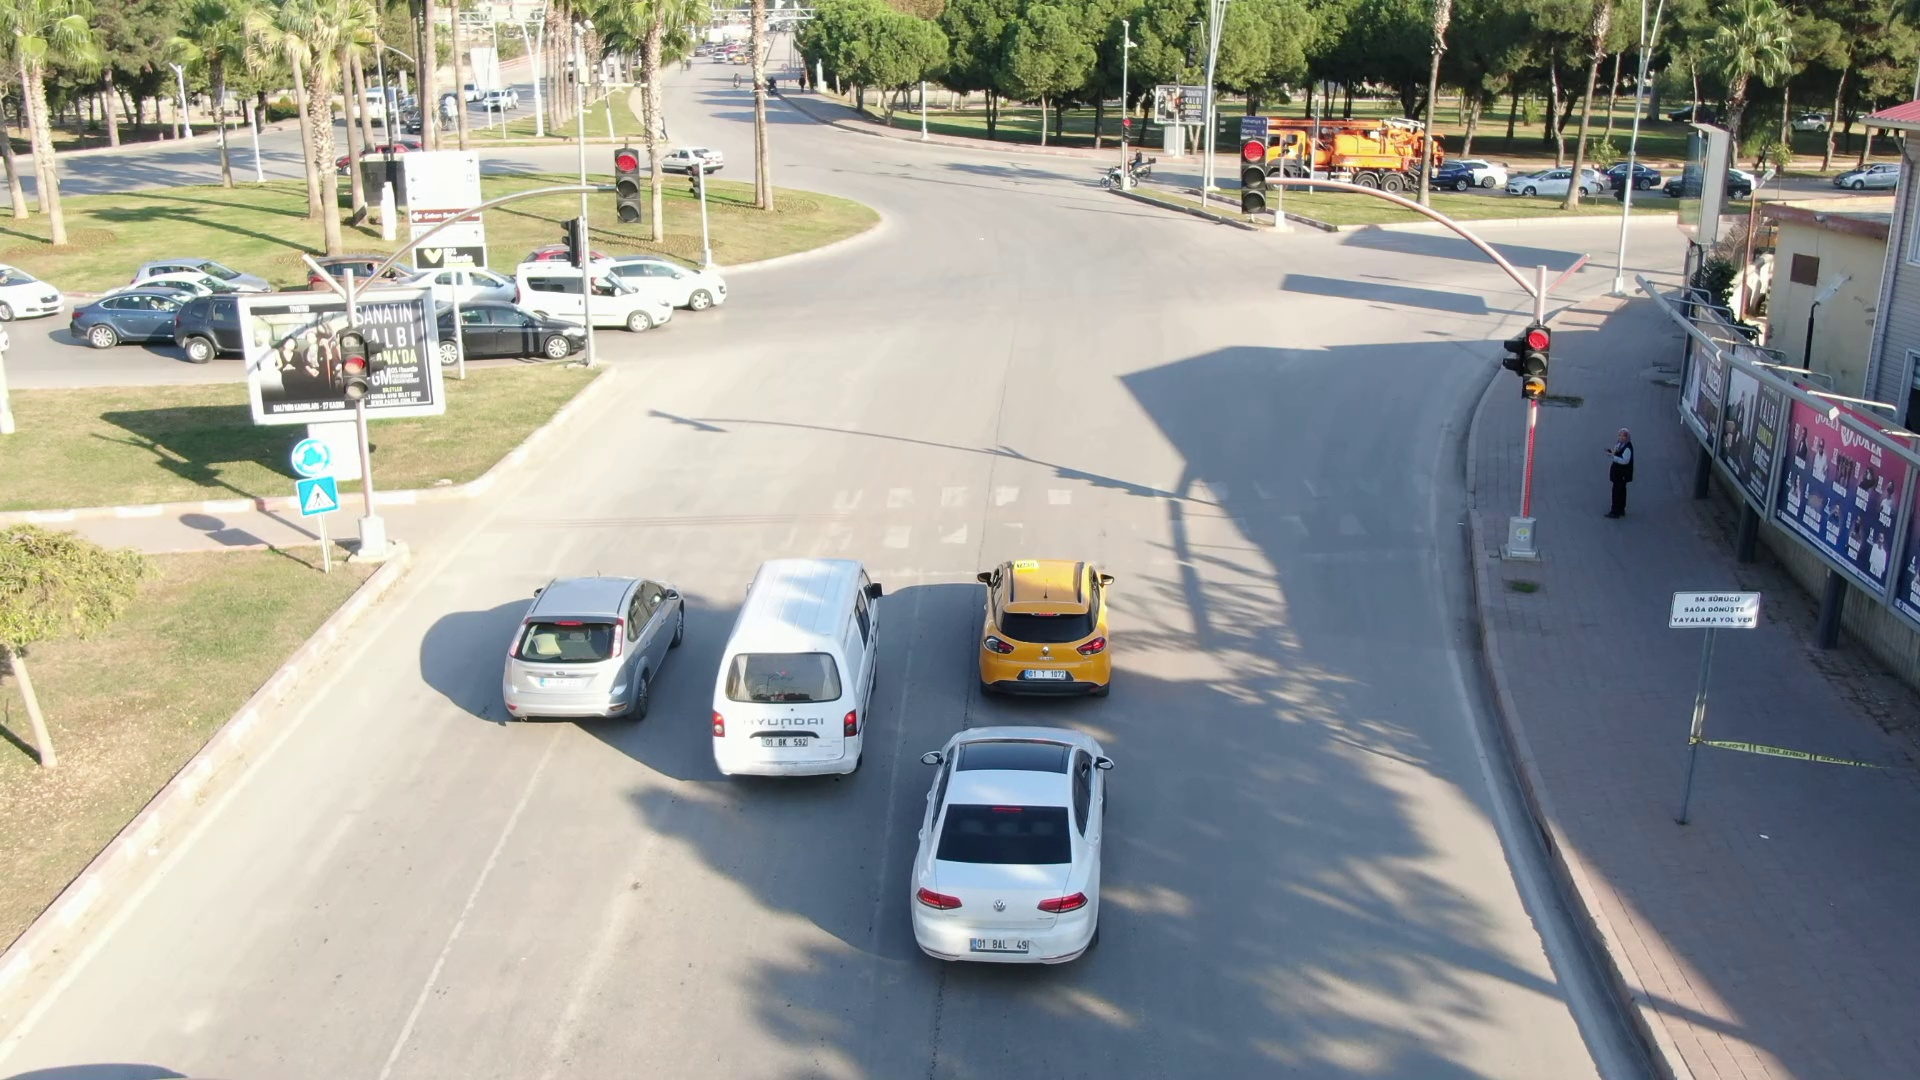car: (892, 729, 1123, 984), (684, 559, 888, 802), (508, 561, 698, 731), (965, 549, 1114, 704), (488, 251, 694, 331)
person: (1602, 423, 1643, 521)
